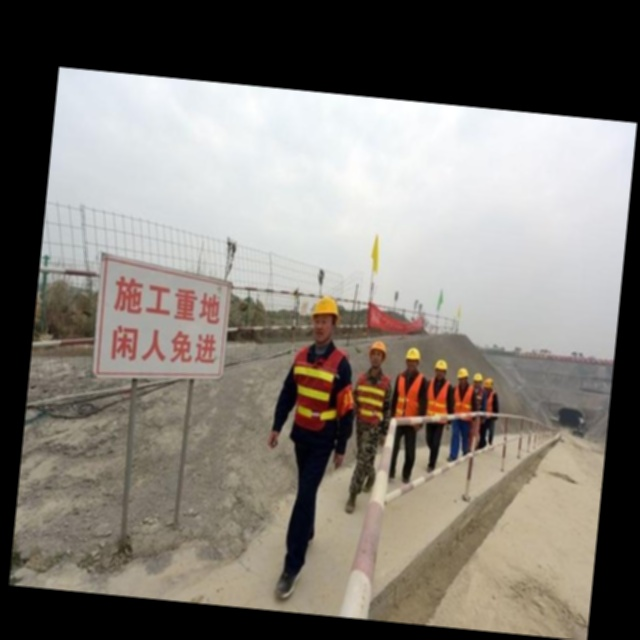Con_Chaleco: (288, 342, 350, 436), (356, 370, 391, 424), (395, 373, 422, 423), (424, 374, 453, 420), (452, 384, 475, 422)
